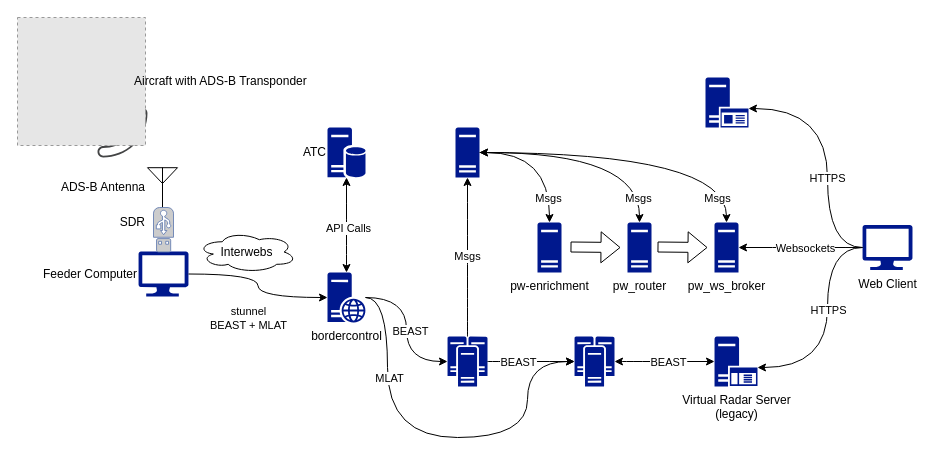
The diagram is 934 pixels wide and 455 high, and some of its shapes have lost their labels. Grey dashed boxes stand in for pictures. The centre of each missing label's shape, as x and y in pixels:
"feed-in containers" goes at (x=467, y=361).
"NATS" goes at (x=467, y=152).
"pw-ui" goes at (x=726, y=102).
"regional multiplexers" goes at (x=594, y=361).
